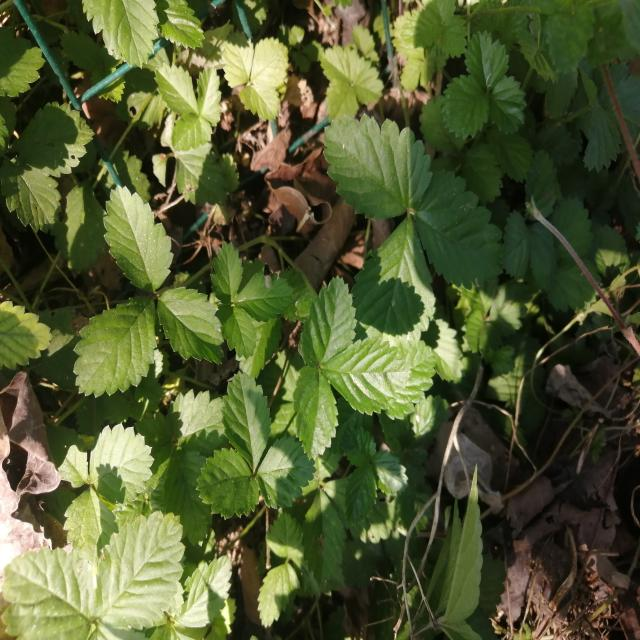Mock_strawberry: (72, 194, 226, 393), (298, 252, 440, 444), (207, 372, 322, 540)
